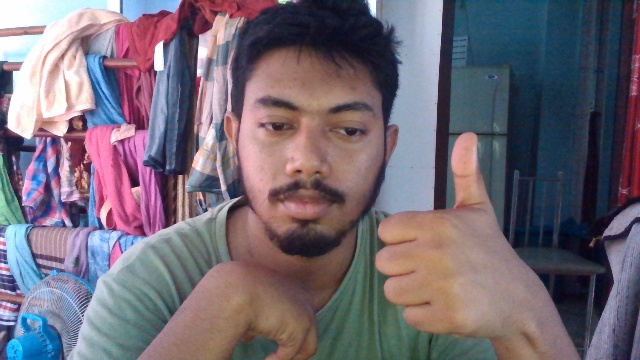yes: (366, 124, 542, 341)
